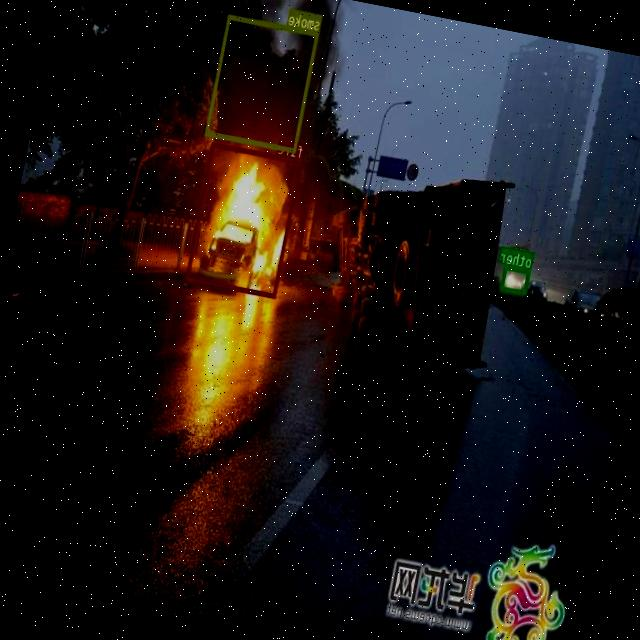fire: (185, 142, 302, 298)
smoke: (206, 14, 320, 152)
